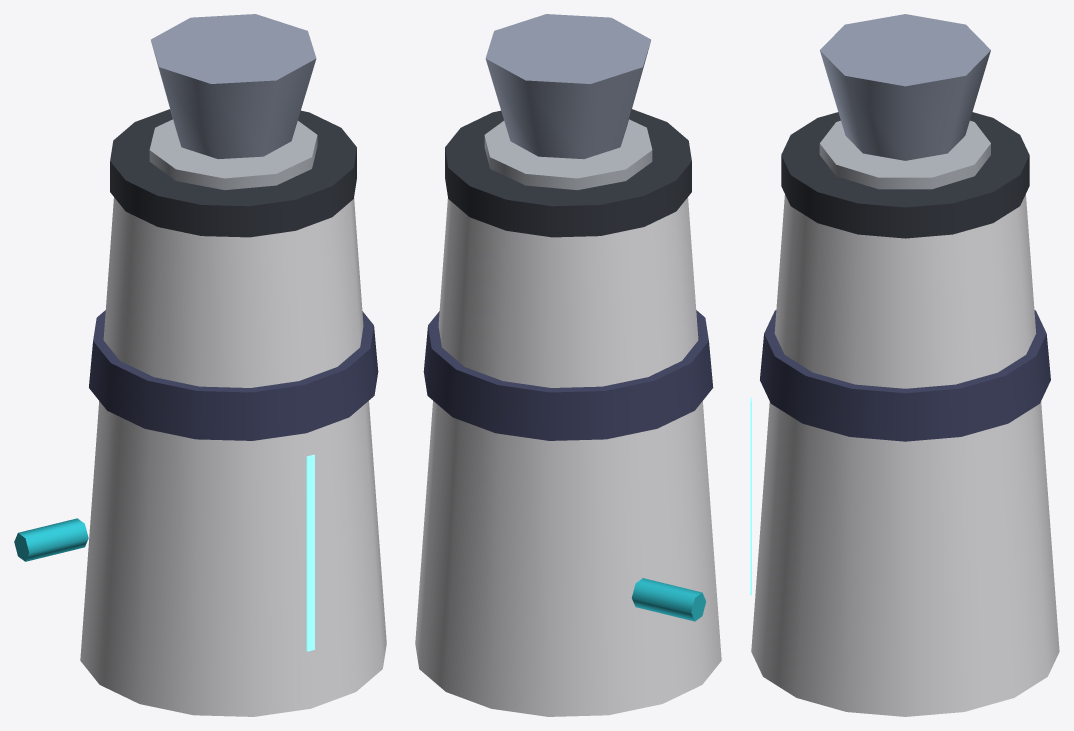
File: station_transport_ausstattung_2_3.glb
3 renders of one model, left to right at view 1: azimuth 30°, elevation 25°; view 2: azimuth 150°, elevation 25°; view 3: azimuth 270°, elevation 25°, orthographic.
Visible parts, largest first — view 1: station_transport_ausstattung_2_3; view 2: station_transport_ausstattung_2_3; view 3: station_transport_ausstattung_2_3.
Part boxes in pixels (x1=…): station_transport_ausstattung_2_3: x1=14, y1=14, x2=386, y2=716; station_transport_ausstattung_2_3: x1=415, y1=14, x2=721, y2=716; station_transport_ausstattung_2_3: x1=750, y1=14, x2=1059, y2=716.
Bounding box in the file's own units: 0.82 × 1.55 × 0.722.
